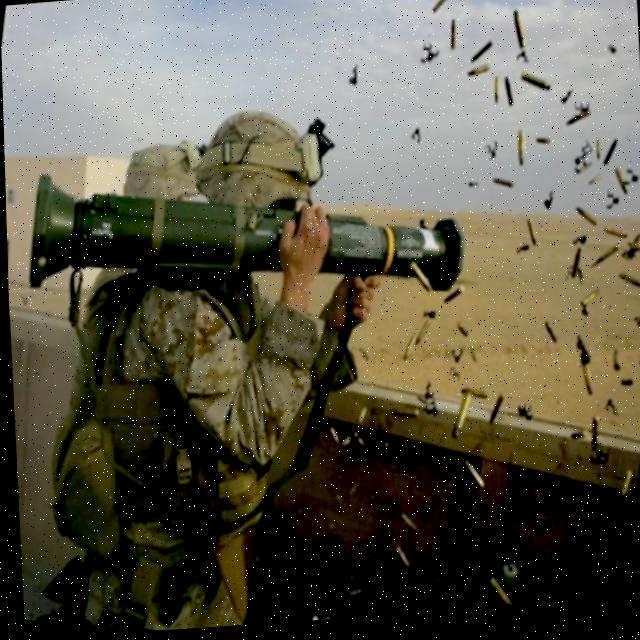rocket: (12, 125, 471, 363)
